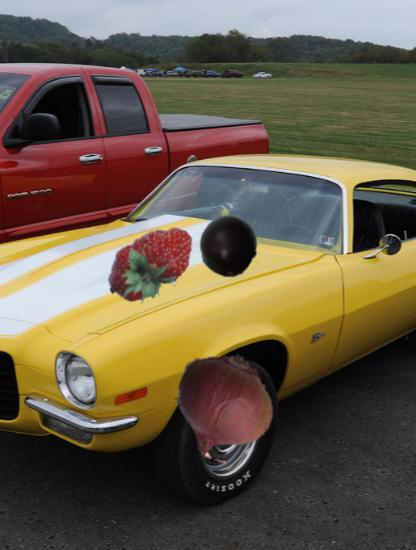Eggplant: (197, 214, 261, 278)
Onion: (165, 340, 287, 462)
Strawberry: (104, 218, 202, 316)
